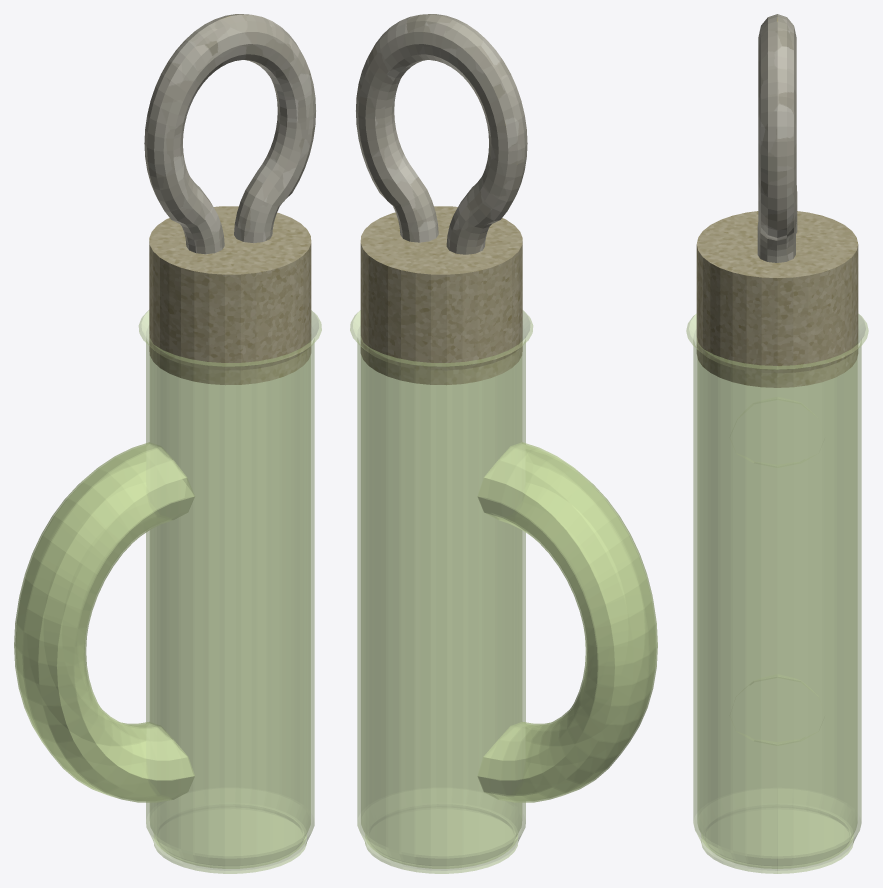
3 views of the same model, side by side, from view 1: azimuth 30°, elevation 25°; view 2: azimuth 150°, elevation 25°; view 3: azimuth 270°, elevation 25° (orthographic).
Parts seen in each view (by area): view 1: Cirkel, Torus.001, Cirkel.003, Torus.002; view 2: Cirkel, Torus.001, Cirkel.003, Torus.002; view 3: Cirkel, Cirkel.003, Torus.002, Torus.001.
Part boxes in pixels (left/top/right/bottom): Cirkel: left=138, top=310, right=321, bottom=873; Torus.001: left=14, top=442, right=194, bottom=802; Cirkel.003: left=149, top=206, right=311, bottom=385; Torus.002: left=144, top=14, right=315, bottom=254; Cirkel: left=350, top=310, right=533, bottom=873; Torus.001: left=477, top=442, right=657, bottom=802; Cirkel.003: left=360, top=206, right=522, bottom=385; Torus.002: left=356, top=14, right=527, bottom=254; Cirkel: left=686, top=314, right=868, bottom=873; Cirkel.003: left=696, top=211, right=858, bottom=387; Torus.002: left=757, top=14, right=797, bottom=262; Torus.001: left=740, top=397, right=811, bottom=745.
Size of the model in its own units: 4.37 by 11.84 by 2.39.
4 materials, 4 textured.
